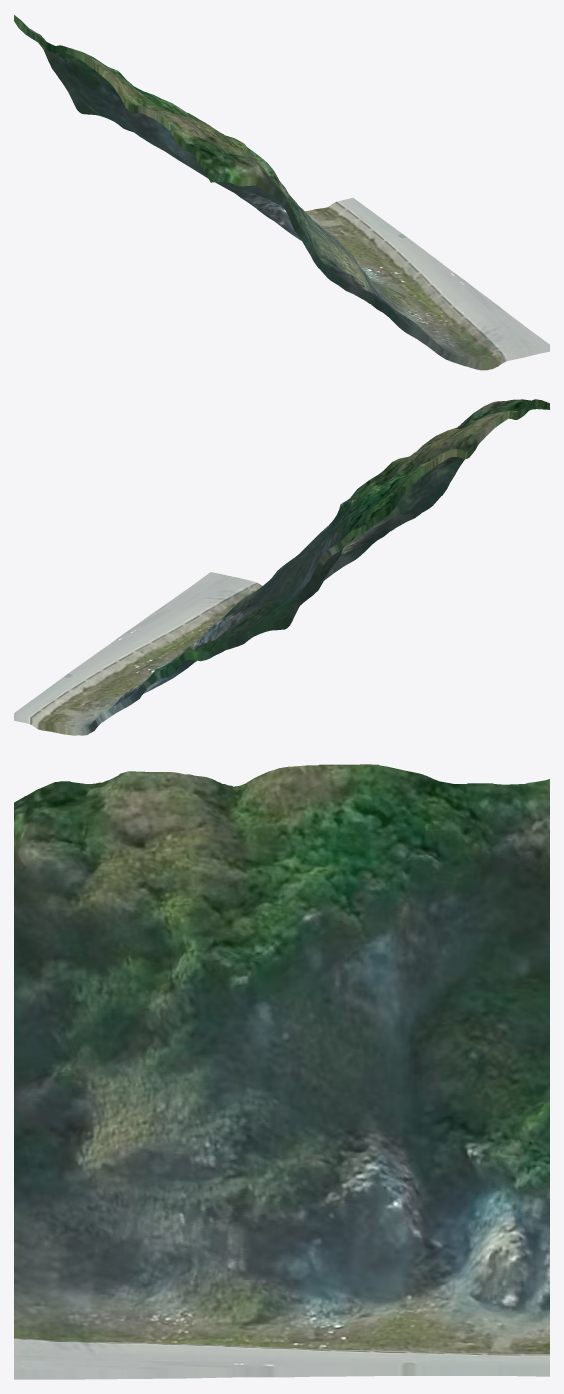
File: z20-167558-405171-h0-yup-uvflip-v3-world.glb
The picture shows the model from 3 angles, top to bottom: view 1: azimuth 30°, elevation 25°; view 2: azimuth 150°, elevation 25°; view 3: azimuth 270°, elevation 25°; orthographic projection. The views are drawn at different scales.
Bounding box in the file's own units: 30.16 × 24.64 × 30.32.
1 material, 1 textured.
